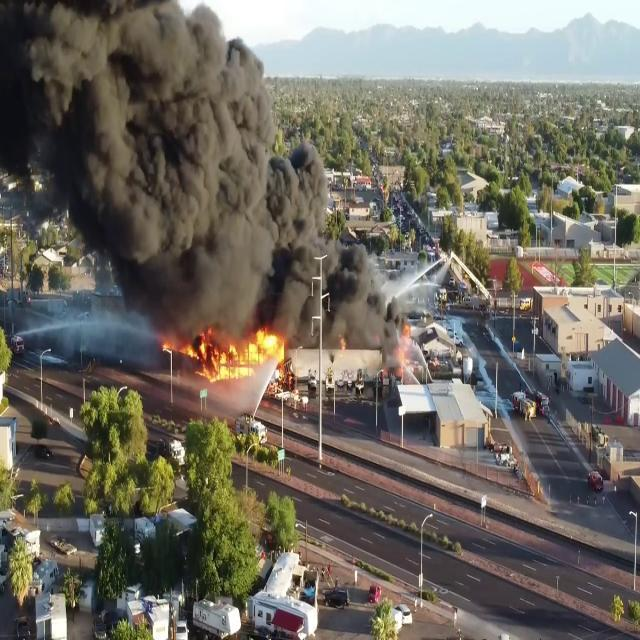Fire: (170, 319, 288, 379)
Smoke: (0, 1, 394, 327)
